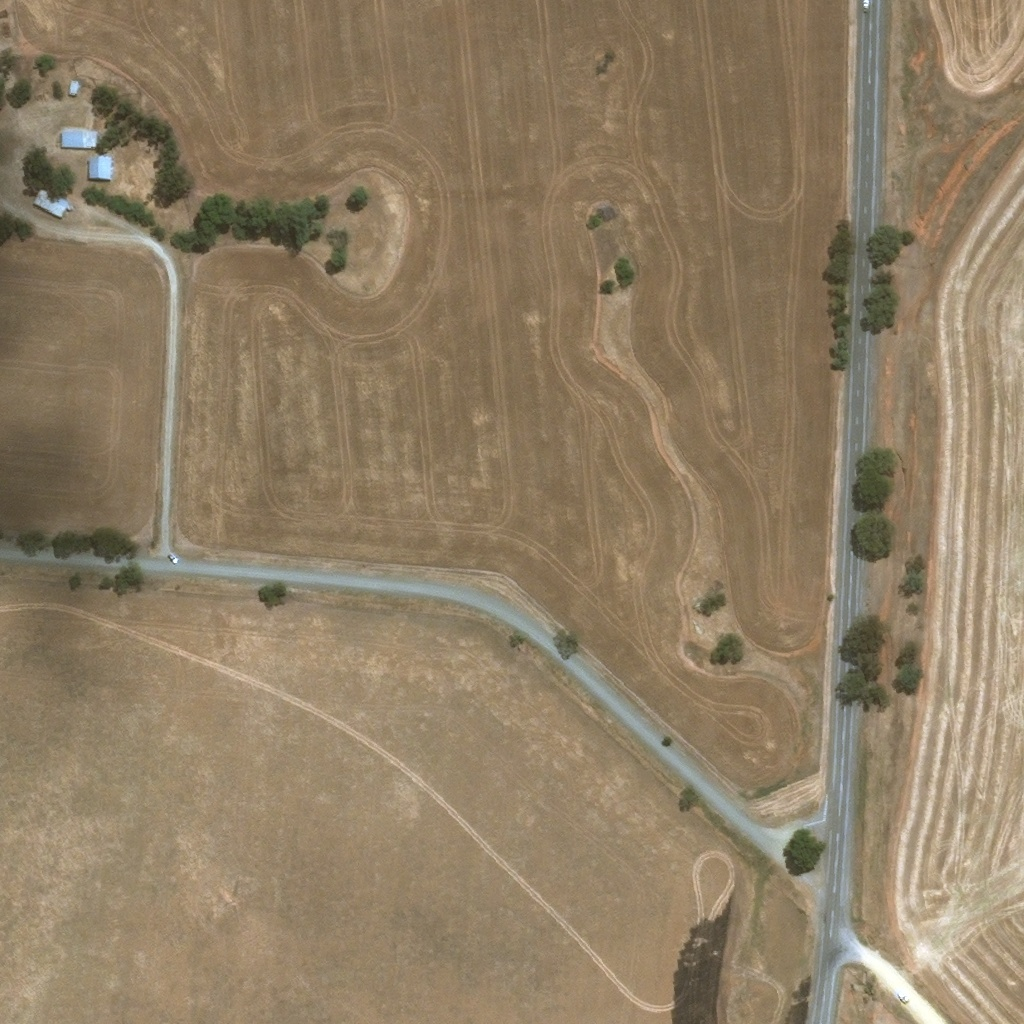0 no-damage: (31, 188, 72, 219), (57, 131, 96, 149), (87, 156, 110, 180), (66, 81, 78, 96)
